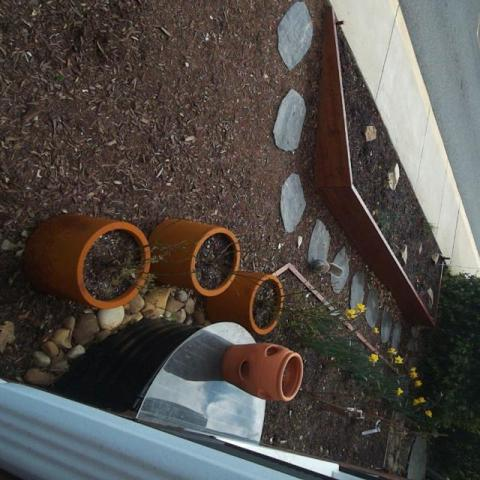small_animal: (306, 258, 344, 279)
